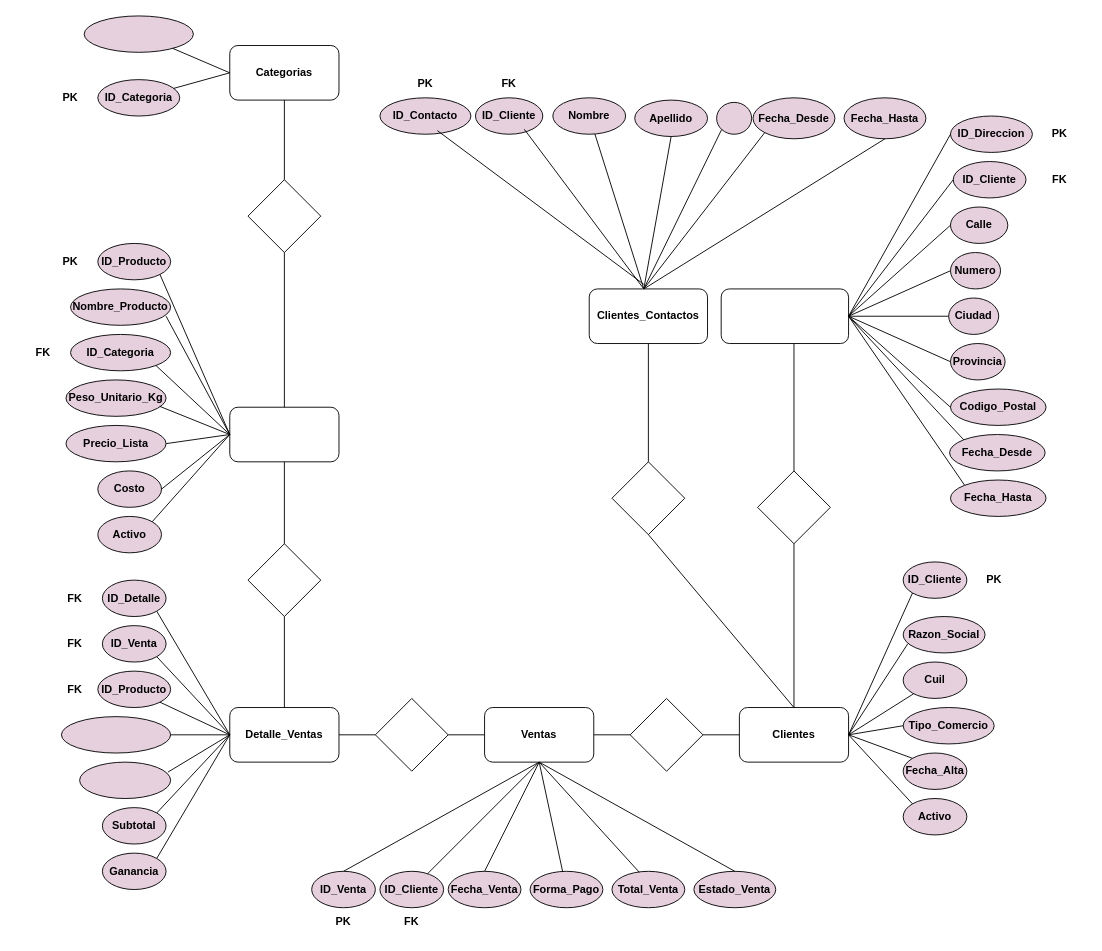
The diagram is 1102 pixels wide and 951 high, and some of its shapes have lost their labels. Each missing label, with the centre of its shape:
"Cantidad_Unidades" belongs at point (116, 734).
"Clientes_Direcciones" belongs at point (784, 316).
"DNI" belongs at point (734, 117).
"Incluye" belongs at point (411, 734).
"Nombre_Categoria" belongs at point (138, 33).
"Pertenece a" belongs at point (284, 216).
"Posee" belongs at point (648, 498).
"Precio_Unitario" belongs at point (125, 780).
"Productos" belongs at point (284, 434).
"Realiza" belongs at point (666, 734).
"Se vende en" belongs at point (284, 580).
"Tiene" belongs at point (793, 507).
